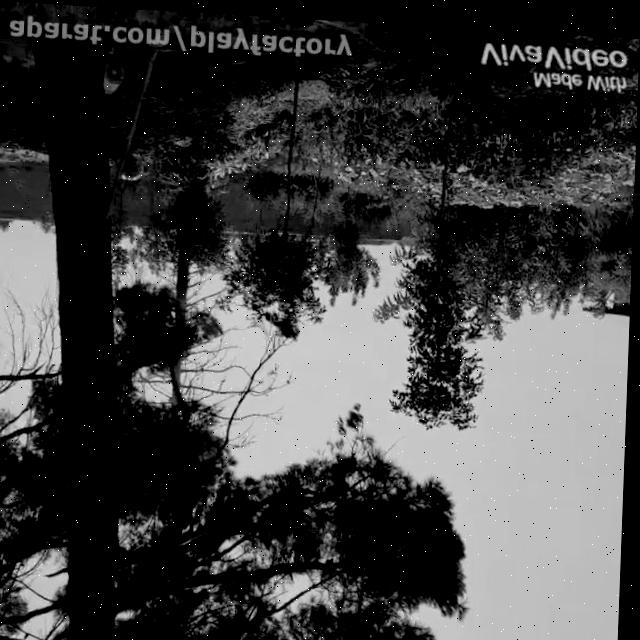drone: (267, 365, 278, 377)
